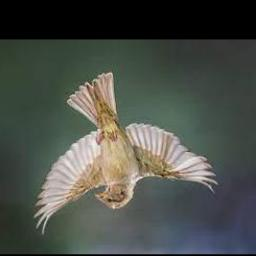Sparrow: (33, 73, 218, 235)
